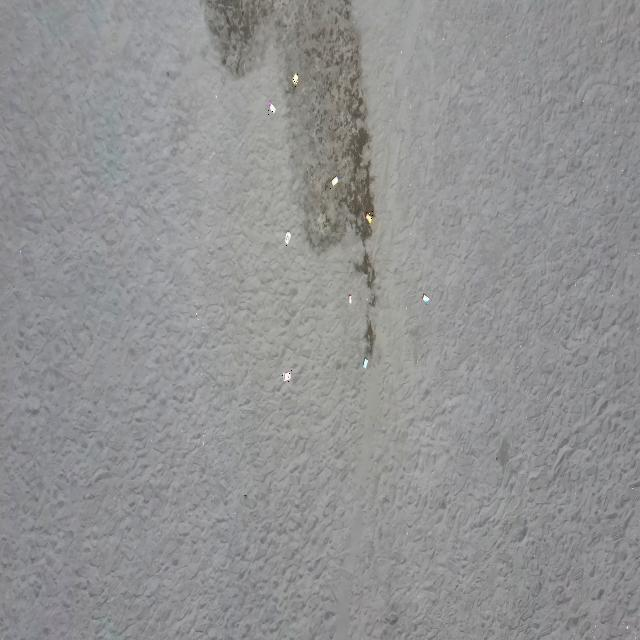Garbage: (281, 369, 291, 380), (364, 211, 372, 223), (267, 101, 275, 112), (292, 72, 298, 85), (283, 232, 289, 244), (422, 292, 428, 303), (331, 176, 337, 186), (362, 356, 367, 367), (347, 292, 351, 303)
